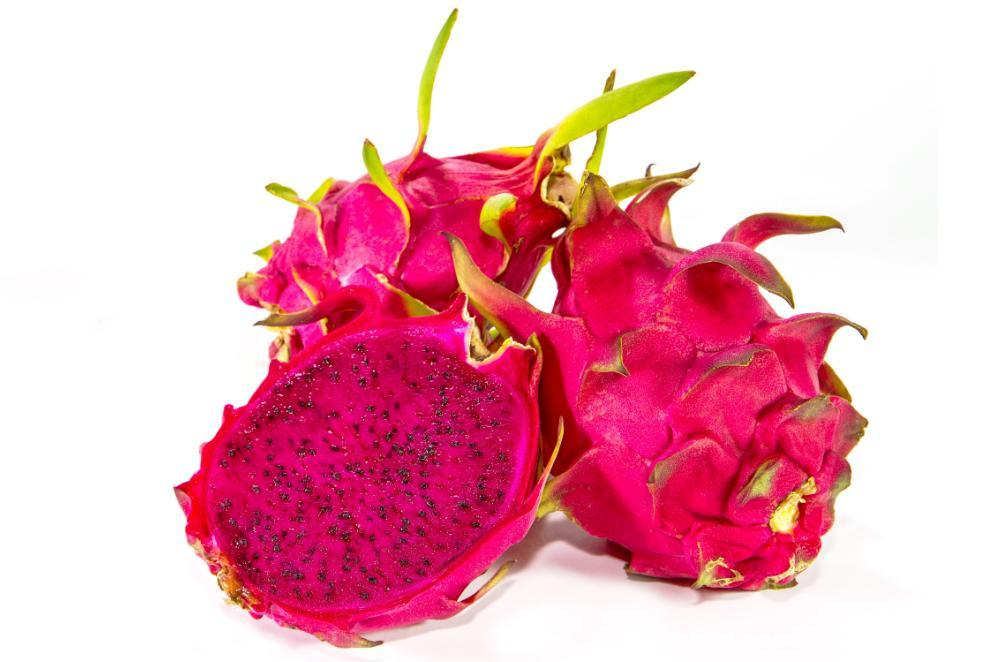dragon-fruit: (539, 234, 853, 595), (189, 316, 542, 635), (235, 153, 556, 348)
